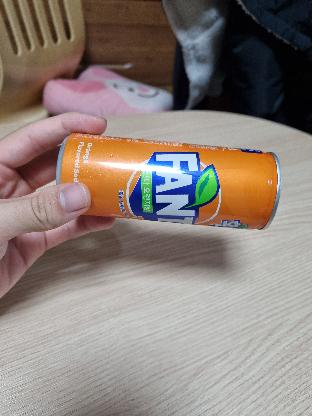Can: (61, 130, 277, 233)
